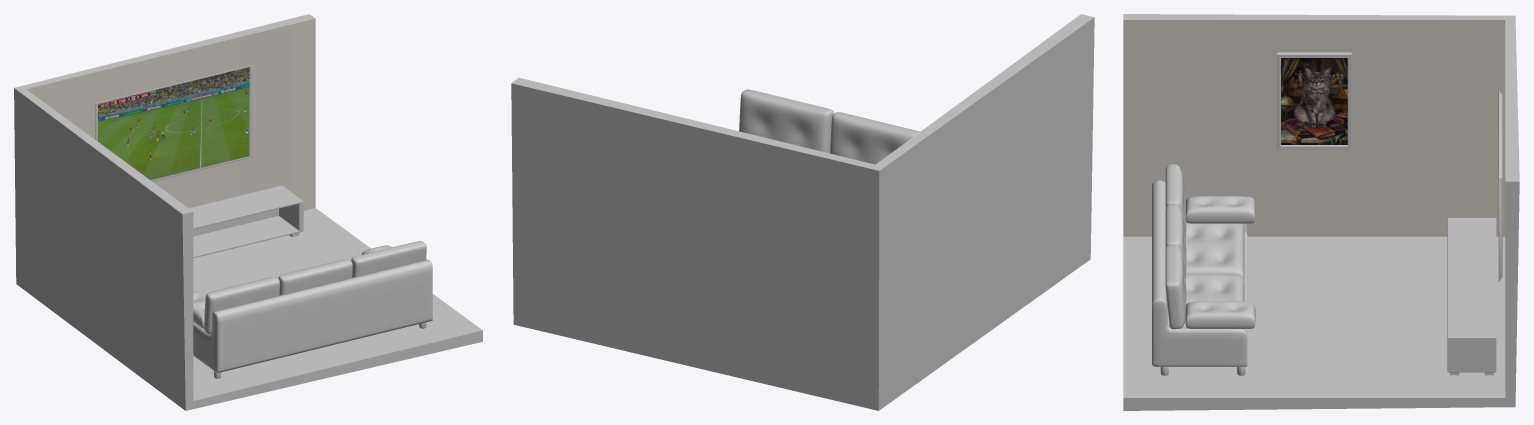
Rendered from sala.obj.
3 views of the same model, side by side, from view 1: azimuth 30°, elevation 25°; view 2: azimuth 150°, elevation 25°; view 3: azimuth 270°, elevation 25° (orthographic). The views are drawn at different scales.
Parts seen in each view (by area): view 1: walls, sofa, tv, table, Plane.004, Plane.006, Plane.005; view 2: walls, Plane.006, Plane.005; view 3: walls, table, Plane.001, sofa, Plane.002, Plane.008, Plane.007, Plane.003, Plane.006, tv, Plane.005, Plane.004.
Boxes of the visible parts, x1,y1,x2,y2 form: walls: (14,14,482,410); sofa: (193,259,432,372); tv: (95,65,252,181); table: (189,185,303,258); Plane.004: (204,277,279,334); Plane.006: (351,241,426,277); Plane.005: (278,259,352,295); walls: (511,14,1094,410); Plane.006: (739,89,833,153); Plane.005: (830,112,919,164); walls: (1123,14,1519,410); table: (1447,218,1496,372); Plane.001: (1277,52,1351,149); sofa: (1152,180,1247,366); Plane.002: (1185,222,1244,279); Plane.008: (1185,301,1255,328); Plane.007: (1185,196,1255,223); Plane.003: (1169,274,1244,327); Plane.006: (1165,245,1186,329); tv: (1498,90,1502,281); Plane.005: (1165,204,1186,278); Plane.004: (1165,164,1186,237).
Size of what is drawn, in the model's own units: 8.3 by 5.3 by 8.3.
